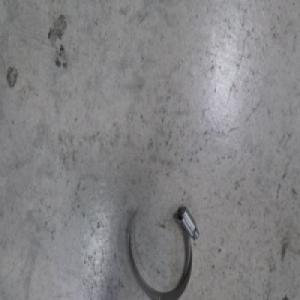AdjustableClamp: (126, 204, 199, 298)
